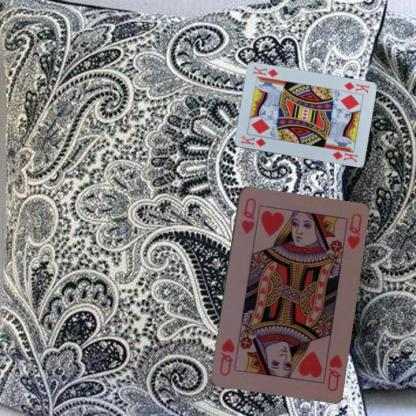Kd: (238, 133, 267, 148), (341, 80, 370, 94)
Qh: (324, 351, 343, 392), (238, 195, 257, 235)
